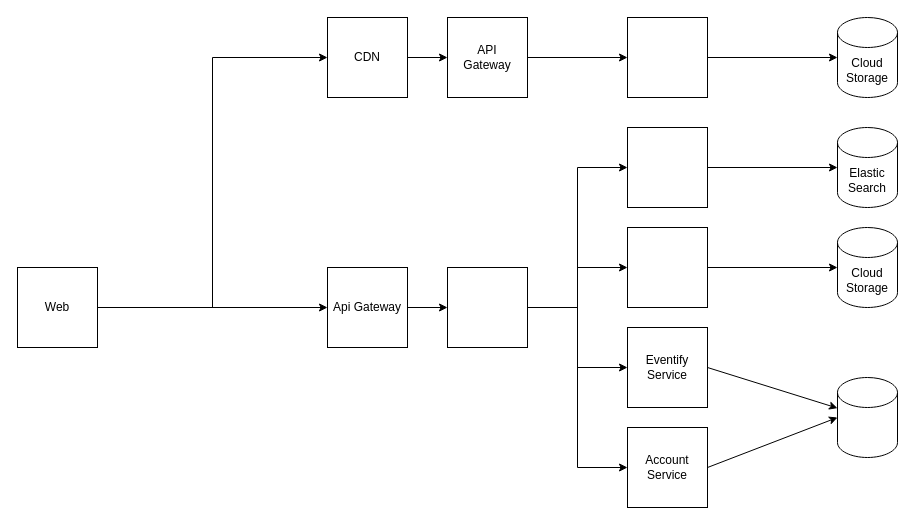
Image size: 915x525. Some labels were removed from this diagram. The centre of each missing label's shape, as x and y in pixels:
Load Balancer: the point at 487,307
Search Service: the point at 667,167
SQL Server: the point at 867,417
Streaming Service: the point at 667,57
Video digest: the point at 667,267
